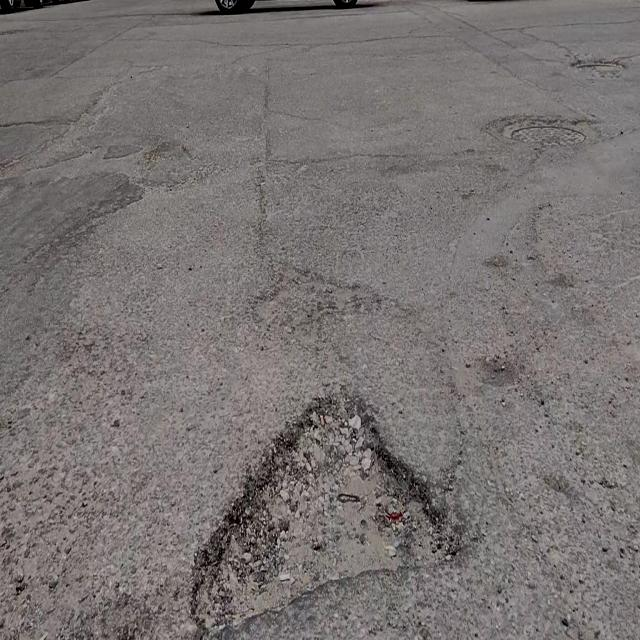Potholes: (188, 392, 462, 634)
